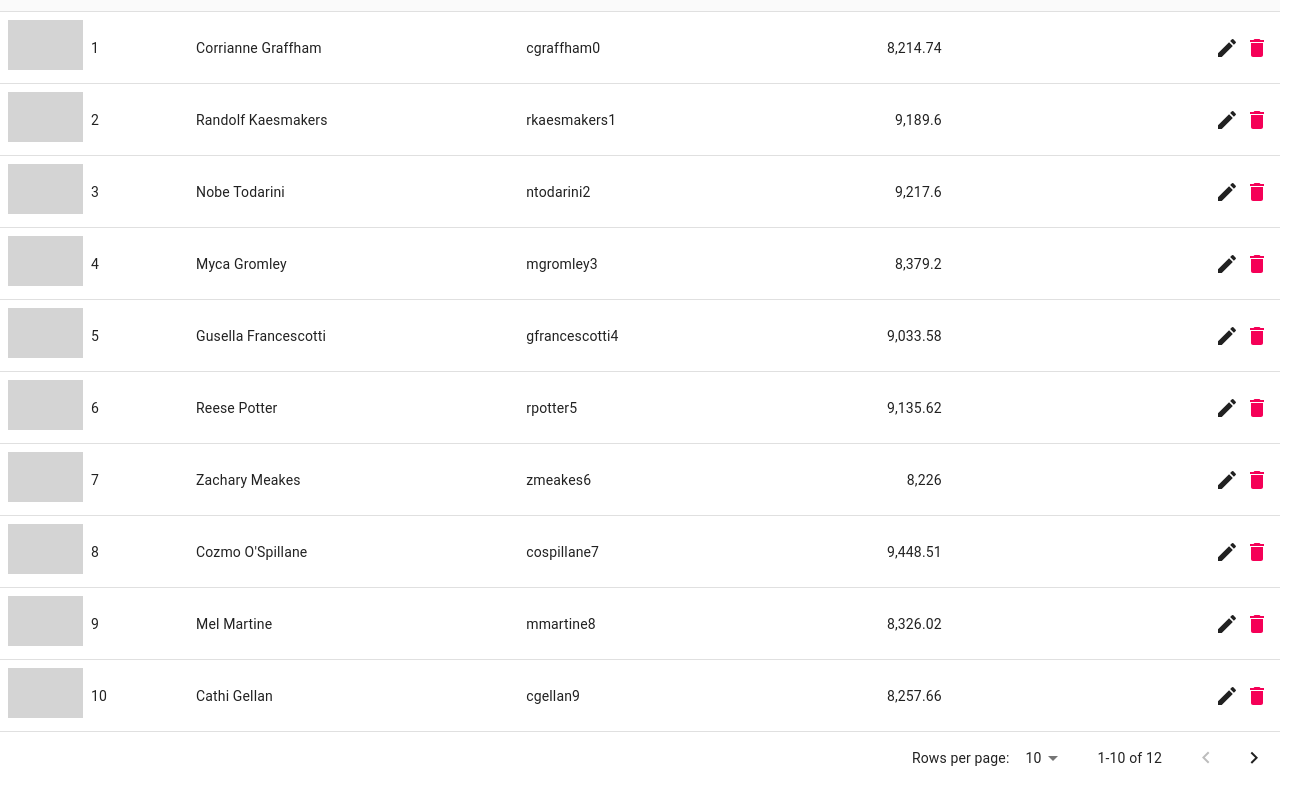
Test: EmployeesList pagination next page button click
(page scrolled)
Step 1. Click the button titled "Next page" → (1254, 758), box [1230,734,1278,782]
(page scrolled)
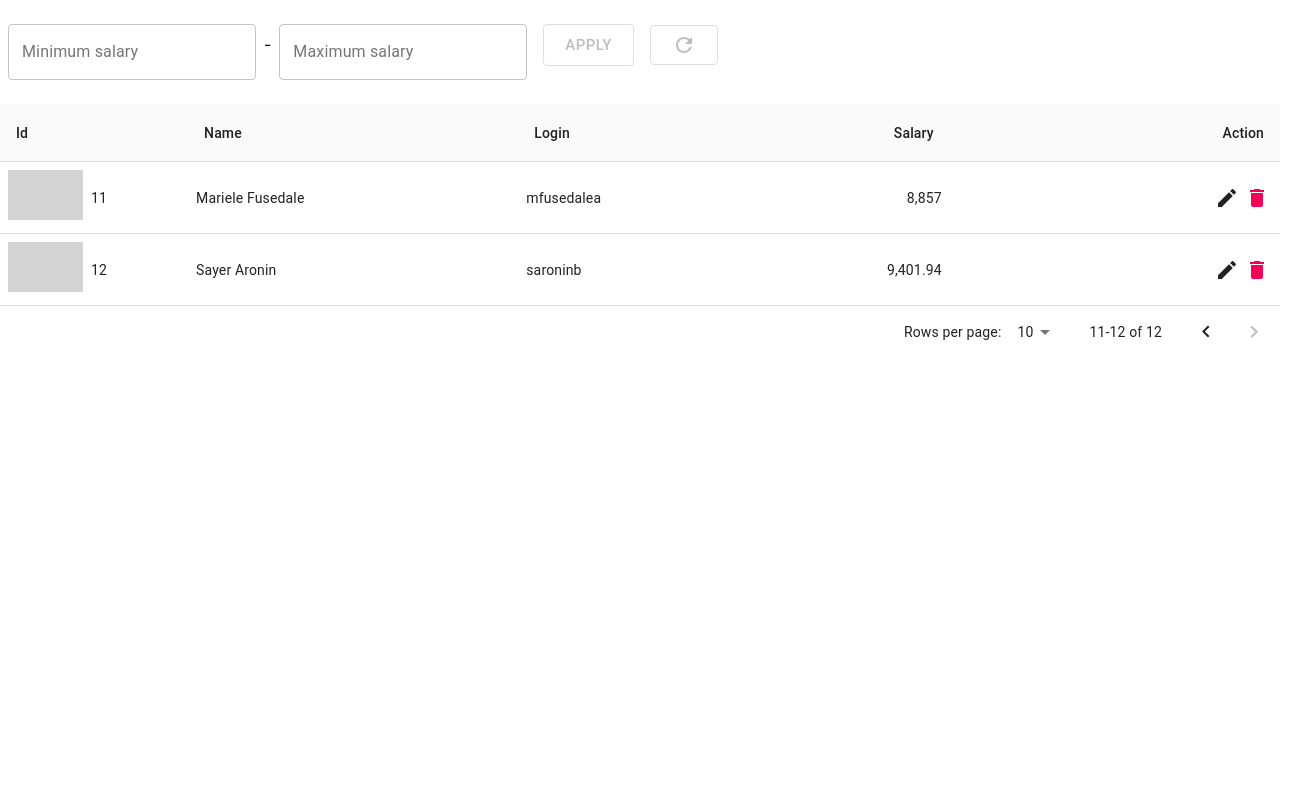
Result: the text "saroninb" is shown at [518,234,734,306]
